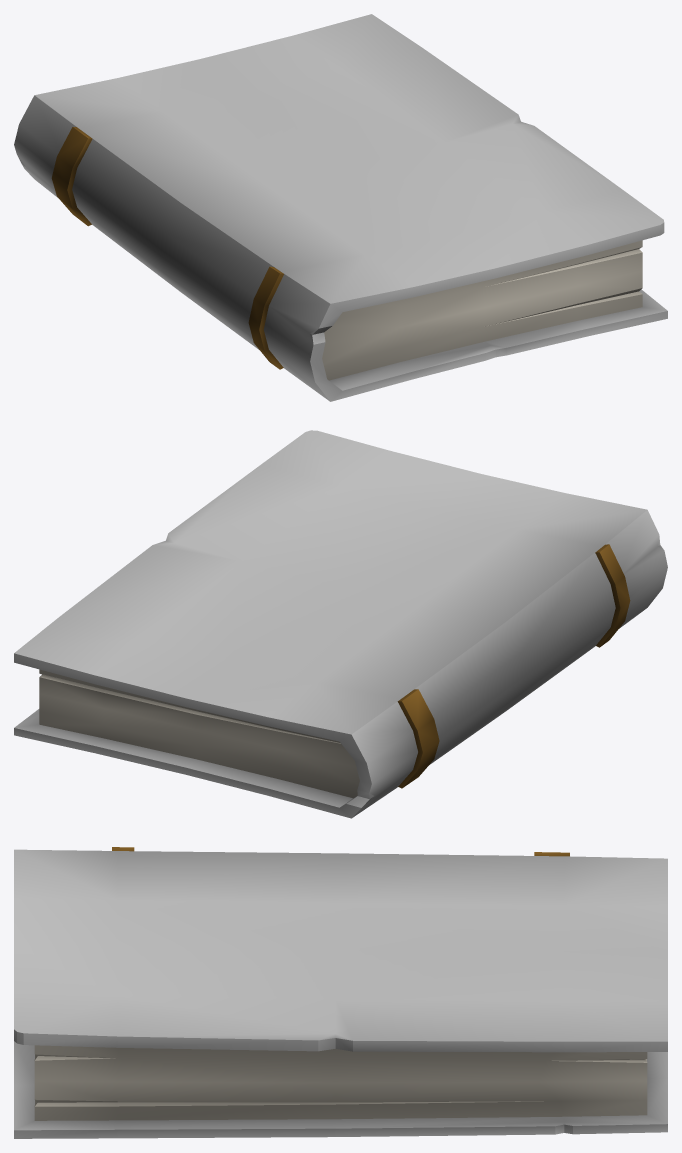
Rendered from obj_bookClosed_D.FBX.
The picture shows the model from 3 angles, top to bottom: view 1: azimuth 30°, elevation 25°; view 2: azimuth 150°, elevation 25°; view 3: azimuth 270°, elevation 25°; orthographic projection. The views are drawn at different scales.
Visible parts, largest first — view 1: obj_bookClosed_D; view 2: obj_bookClosed_D; view 3: obj_bookClosed_D.
Boxes of the visible parts, bbox=[...] form: obj_bookClosed_D: bbox=[14, 14, 667, 401]; obj_bookClosed_D: bbox=[14, 430, 667, 818]; obj_bookClosed_D: bbox=[14, 847, 667, 1138].
Bounding box in the file's own units: 0.7996 × 0.203 × 1.11.
